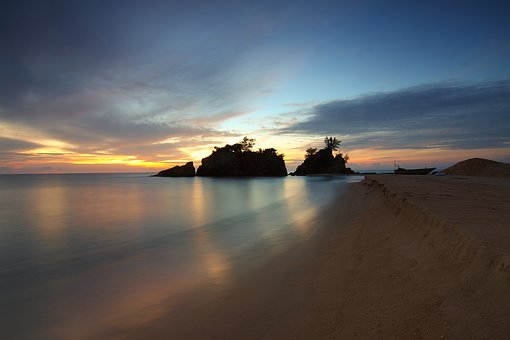mountain: (167, 135, 381, 177)
sea: (7, 176, 510, 336)
sky: (1, 1, 503, 155)
